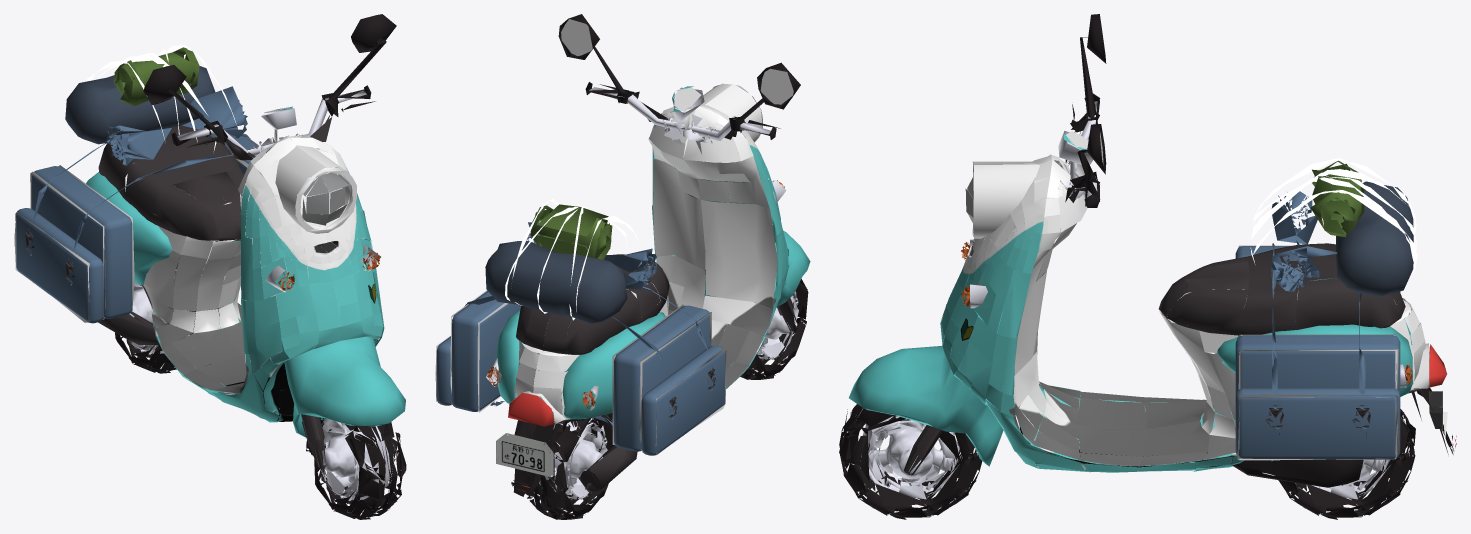
Rendered from scooter_low.glb.
3 views of the same model, side by side, from view 1: azimuth 30°, elevation 25°; view 2: azimuth 150°, elevation 25°; view 3: azimuth 270°, elevation 25° (orthographic). The views are drawn at different scales.
Visible parts, largest first — view 1: Plane.001_32, Cube.004_0, Cube_33, Plane_31, Cylinder.015_15, Cylinder.009_42, Cylinder.003_53, Cylinder.002_14, Plane.002_34, Cylinder.016_16, Circle.002_48, Cylinder.001_54 (+12 smaller); view 2: Plane.001_32, Cube.004_0, Cylinder.015_15, Plane.002_34, Cube_33, Cylinder.004_56, Cylinder.016_16, Circle.002_48, NurbsPath.006_22, Plane.004_36, Cylinder.003_53, Cylinder.009_42 (+15 smaller); view 3: Plane.001_32, Cube.004_0, Cube_33, Plane_31, Cylinder.003_53, Cylinder.015_15, Cylinder.004_56, Cylinder.009_42, Cylinder.002_14, Cube.003_51, Cylinder.001_54, Cylinder.016_16 (+12 smaller).
Boxes of the visible parts, box(x1,y1,x2,y2) form: Plane.001_32: box(125, 136, 384, 422); Cube.004_0: box(16, 134, 258, 323); Cube_33: box(98, 125, 246, 241); Plane_31: box(279, 300, 405, 437); Cylinder.015_15: box(65, 66, 215, 144); Cylinder.009_42: box(260, 145, 356, 233); Cylinder.003_53: box(302, 417, 406, 519); Cylinder.002_14: box(106, 86, 247, 165); Plane.002_34: box(86, 172, 240, 285); Cylinder.016_16: box(114, 47, 199, 105); Circle.002_48: box(143, 14, 396, 105); Cylinder.001_54: box(321, 419, 390, 500); Plane.001_32: box(514, 105, 789, 422); Cube.004_0: box(436, 291, 725, 455); Cylinder.015_15: box(485, 241, 627, 323); Plane.002_34: box(495, 309, 665, 419); Cube_33: box(516, 254, 669, 354); Cylinder.004_56: box(526, 413, 612, 519); Cylinder.016_16: box(530, 204, 612, 259); Circle.002_48: box(558, 14, 800, 109); NurbsPath.006_22: box(435, 290, 726, 454); Plane.004_36: box(496, 433, 553, 477); Cylinder.003_53: box(740, 279, 808, 379); Cylinder.009_42: box(683, 83, 762, 162); Plane.001_32: box(940, 154, 1425, 472); Cube.004_0: box(1235, 246, 1400, 459); Cube_33: box(1158, 243, 1405, 335); Plane_31: box(849, 311, 1003, 466); Cylinder.003_53: box(839, 404, 982, 519); Cylinder.015_15: box(1336, 181, 1413, 296); Cylinder.004_56: box(1275, 409, 1415, 519); Cylinder.009_42: box(965, 161, 1054, 238); Cylinder.002_14: box(1271, 191, 1337, 291); Cube.003_51: box(1225, 455, 1363, 487); Cylinder.001_54: box(862, 416, 962, 499); Cylinder.016_16: box(1310, 160, 1364, 237).
Size of the model in its own units: 4.19 by 6.55 by 8.22.
Materials: 17 (2 with a texture image).
